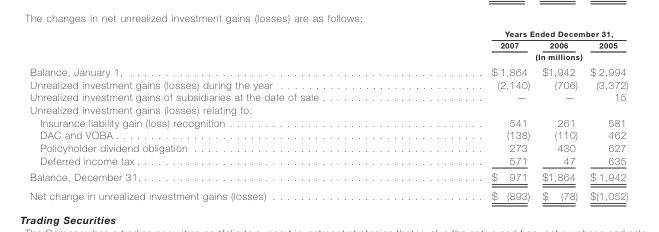table: (29, 28, 627, 201)
table column: (29, 28, 404, 201), (404, 28, 535, 201), (535, 28, 583, 201), (583, 28, 627, 201)
table column header: (29, 28, 627, 63)
table projected row header: (29, 103, 627, 115)
table row: (29, 168, 627, 185), (29, 185, 627, 201), (29, 63, 627, 78), (29, 153, 627, 168), (29, 50, 627, 63), (29, 90, 627, 103), (29, 115, 627, 128), (29, 128, 627, 141), (29, 38, 627, 50), (29, 78, 627, 90), (29, 103, 627, 115), (29, 141, 627, 153), (29, 28, 627, 38)
table spanning cell: (404, 50, 627, 63), (404, 28, 627, 38)
